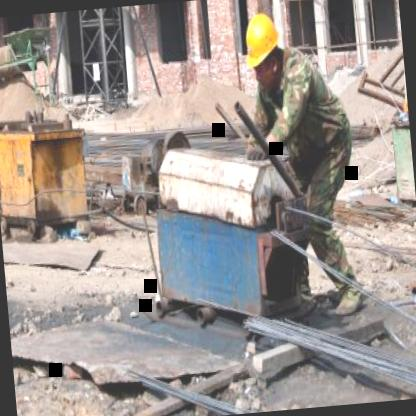helmet: (237, 3, 290, 98)
